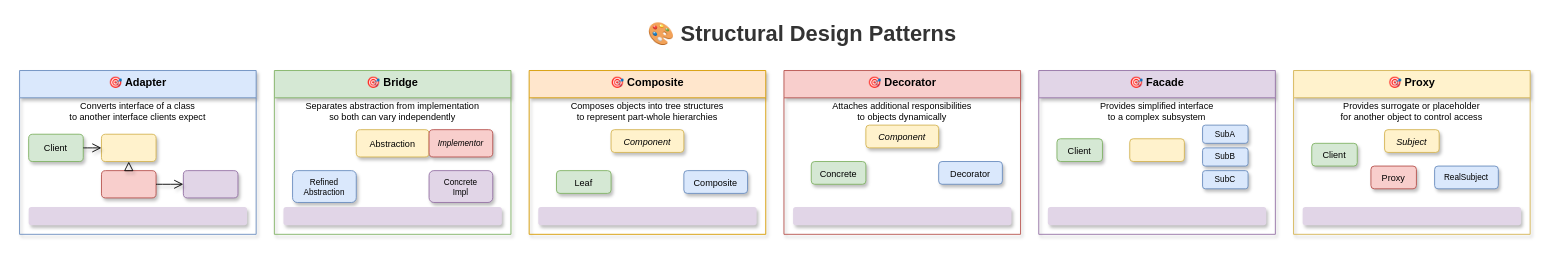
This 1552x257 diagram has some shape labels left out. Each missing label, with the centre of its shape:
"Adaptee" goes at [211,185].
"Adapter" goes at [129,185].
"Facade" goes at [1157,151].
"Target Interface" goes at [129,149].
"💡 Use: API gateways, Libraries" goes at [1157,217].
"💡 Use: Cross-platform applications" goes at [393,217].
"💡 Use: File systems, UI hierarchies" goes at [648,217].
"💡 Use: Lazy loading, Access control, Caching" goes at [1412,217].
"💡 Use: Legacy system integration" goes at [138,217].
"💡 Use: Stream wrappers, Middleware" goes at [902,217].
